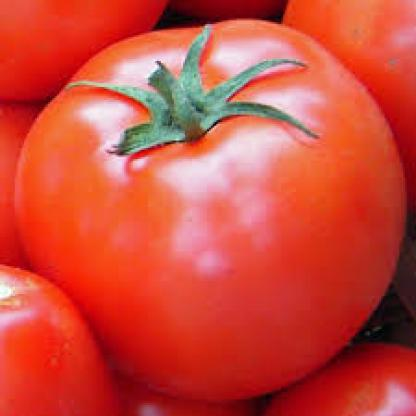Fresh: (7, 15, 410, 408)
